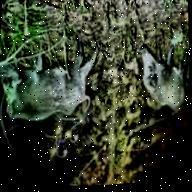boar: (0, 17, 104, 147), (127, 36, 191, 121)
